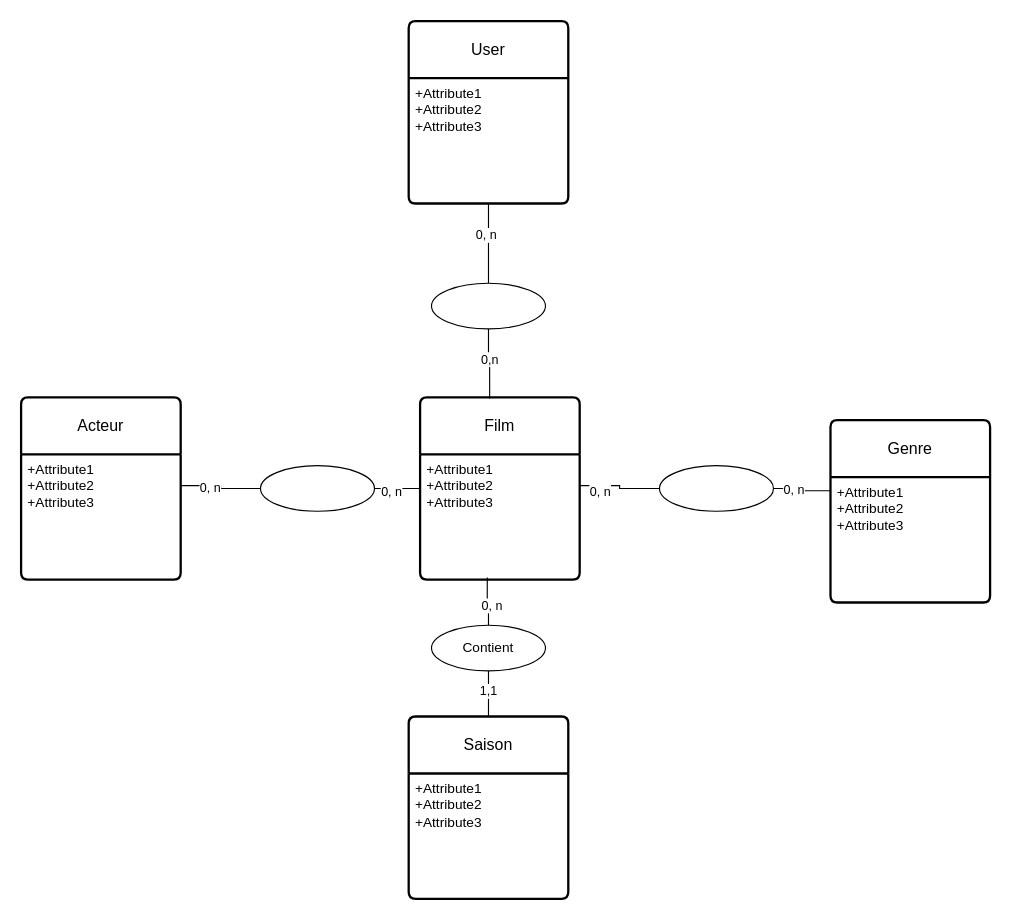
This 1010x919 diagram has some shape labels left out. The shapes that lost their labels are listed below. From the top down, each one's centre as x and y in pixels, then its label:
the point at 487,305: Critique
the point at 316,488: Joue
the point at 715,488: Possède
